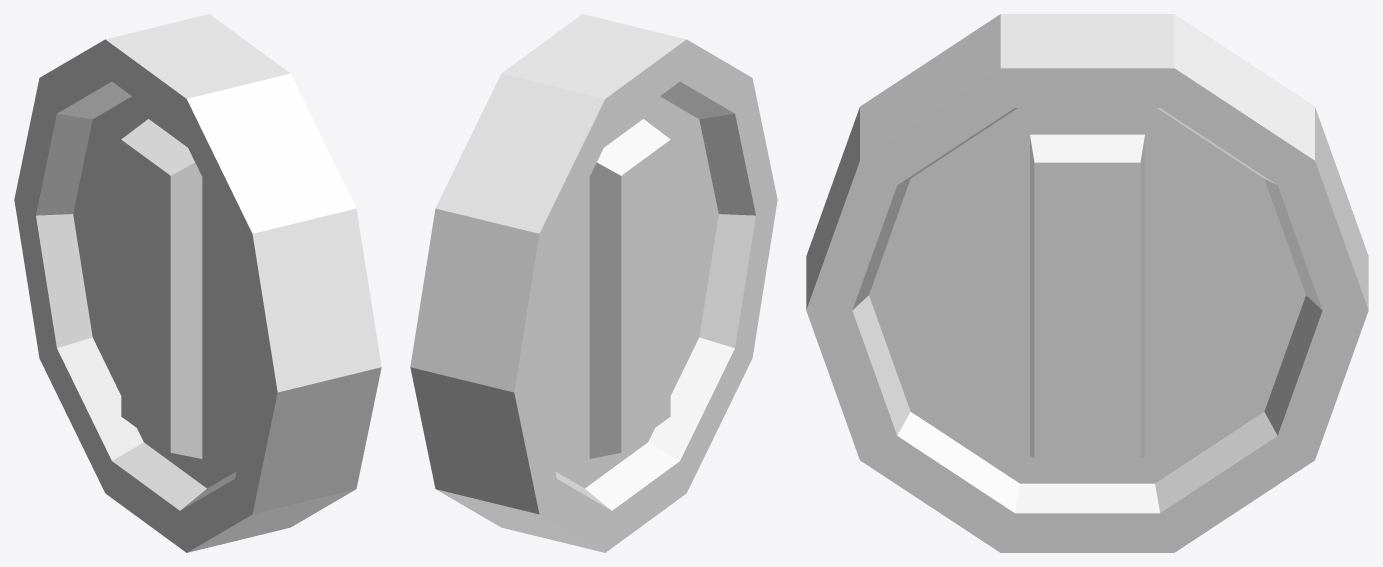
File: ui_moneda.fbx
3 views of the same model, side by side, from view 1: azimuth 30°, elevation 25°; view 2: azimuth 150°, elevation 25°; view 3: azimuth 270°, elevation 25° (orthographic). The views are drawn at different scales.
Parts seen in each view (by area): view 1: moneda; view 2: moneda; view 3: moneda.
Boxes of the visible parts, x1=… form: moneda: x1=14, y1=14, x2=381, y2=552; moneda: x1=410, y1=14, x2=777, y2=552; moneda: x1=806, y1=14, x2=1368, y2=552.
Size of the model in its own units: 0.6045 by 2.52 by 2.65.
